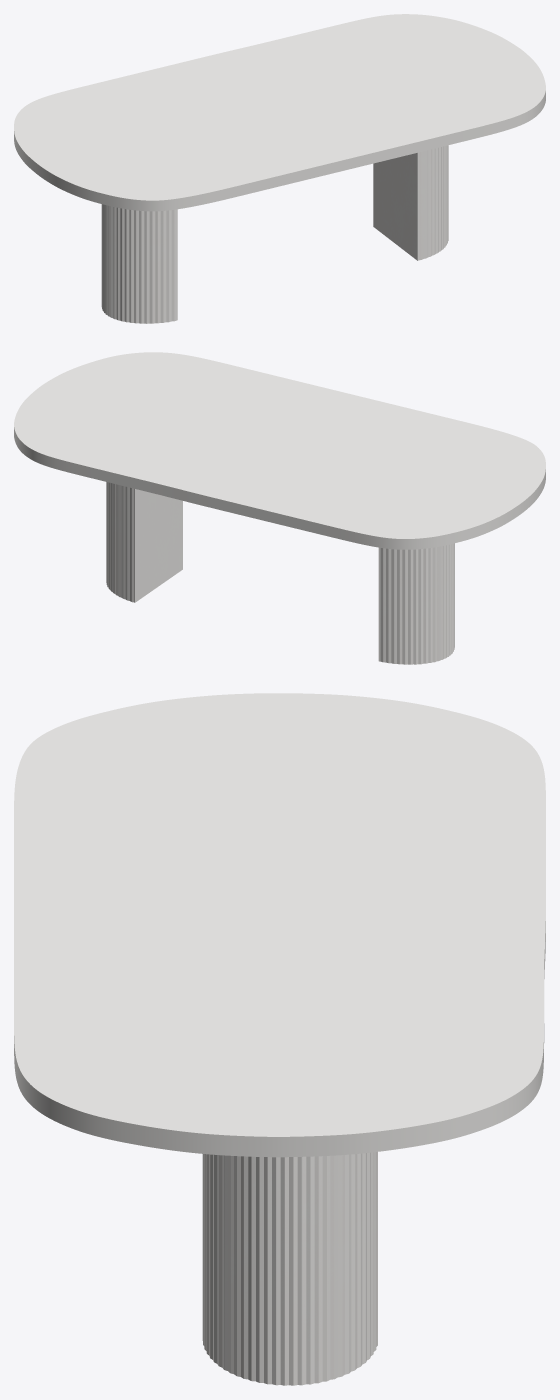
File: purewhite_oval_standard_flute.glb
3 views of the same model, one above another, from view 1: azimuth 30°, elevation 25°; view 2: azimuth 150°, elevation 25°; view 3: azimuth 270°, elevation 25° (orthographic). The views are drawn at different scales.
Parts seen in each view (by area): view 1: standard_oval, flute; view 2: standard_oval, flute; view 3: standard_oval, flute.
Part boxes in pixels (x1,y1,x2,y2): standard_oval: [14, 14, 545, 211]; flute: [101, 145, 448, 323]; standard_oval: [14, 352, 545, 549]; flute: [106, 482, 454, 664]; standard_oval: [14, 693, 545, 1157]; flute: [202, 1152, 377, 1385].
Bounding box in the file's own units: 7.5 × 2.5 × 3.8.
1 material, 1 textured.
